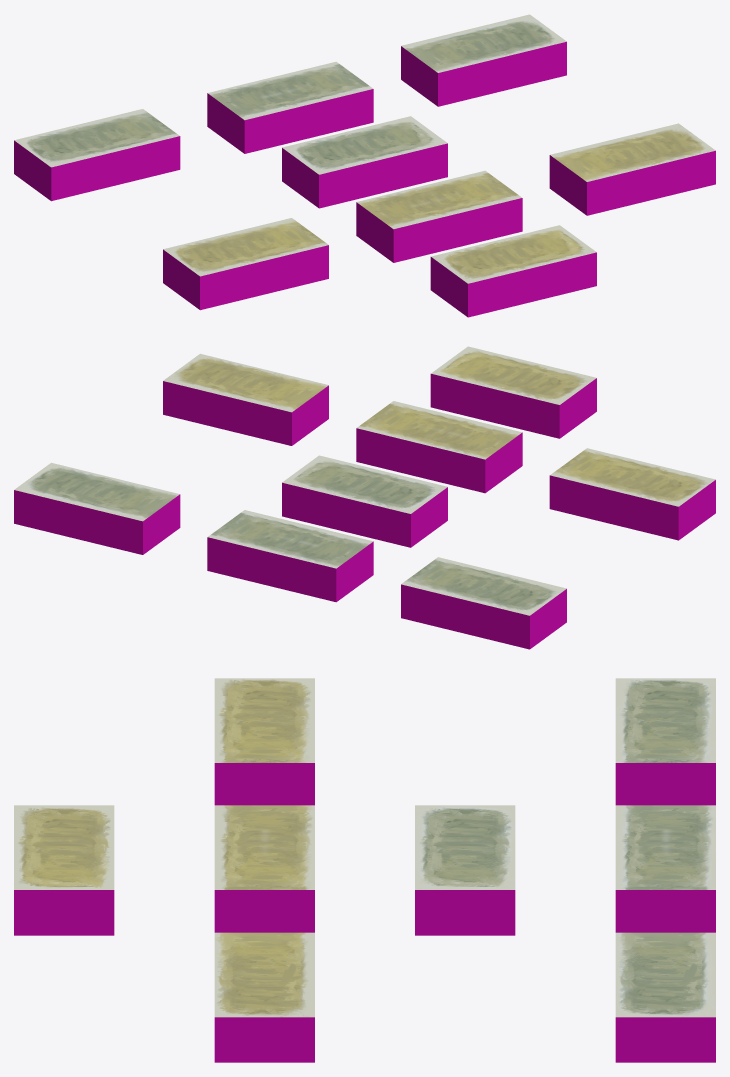
The model's file is Agriculture.fbx.
3 renders of one model, top to bottom at view 1: azimuth 30°, elevation 25°; view 2: azimuth 150°, elevation 25°; view 3: azimuth 270°, elevation 25°, orthographic. The views are drawn at different scales.
Visible parts, largest first — view 1: AG-F-A-0, AG-F-A-2, AG-F-A-3, AG-F-B-2, AG-F-B-1, AG-F-B-3, AG-F-B-0, AG-F-A-1; view 2: AG-F-A-0, AG-F-A-2, AG-F-A-1, AG-F-B-2, AG-F-B-3, AG-F-B-1, AG-F-B-0, AG-F-A-3; view 3: AG-F-A-0, AG-F-B-0, AG-F-A-3, AG-F-B-3, AG-F-A-2, AG-F-B-2, AG-F-A-1, AG-F-B-1.
Part boxes in pixels (x1,y1,x2,y2): AG-F-A-0: [430, 225, 596, 317]; AG-F-A-2: [356, 170, 522, 262]; AG-F-A-3: [549, 123, 715, 215]; AG-F-B-2: [207, 61, 373, 153]; AG-F-B-1: [14, 109, 180, 201]; AG-F-B-3: [401, 14, 566, 106]; AG-F-B-0: [282, 116, 447, 208]; AG-F-A-1: [163, 218, 328, 310]; AG-F-A-0: [430, 346, 596, 438]; AG-F-A-2: [356, 401, 522, 493]; AG-F-A-1: [549, 448, 715, 540]; AG-F-B-2: [207, 510, 373, 602]; AG-F-B-3: [14, 462, 180, 554]; AG-F-B-1: [401, 557, 566, 649]; AG-F-B-0: [282, 455, 447, 547]; AG-F-A-3: [163, 353, 328, 445]; AG-F-A-0: [14, 805, 114, 935]; AG-F-B-0: [415, 805, 515, 935]; AG-F-A-3: [214, 932, 314, 1062]; AG-F-B-3: [615, 932, 715, 1062]; AG-F-A-2: [214, 805, 314, 932]; AG-F-B-2: [615, 805, 715, 932]; AG-F-A-1: [214, 678, 314, 805]; AG-F-B-1: [615, 678, 715, 805].
Bounding box in the file's own units: 4000 × 250 × 3500.
2 materials, 1 textured.
